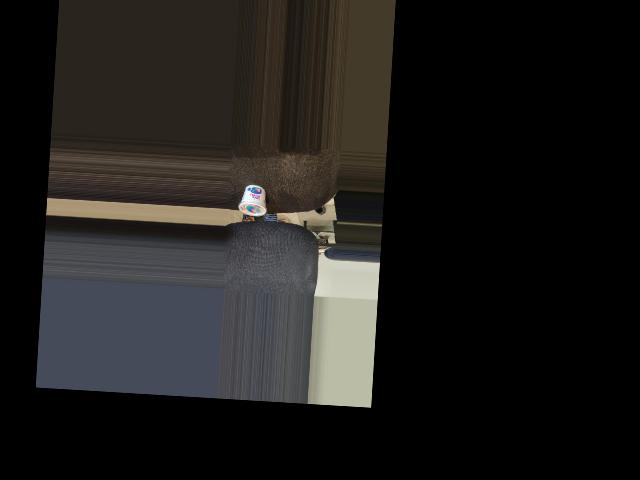cotage: (237, 182, 269, 217)
